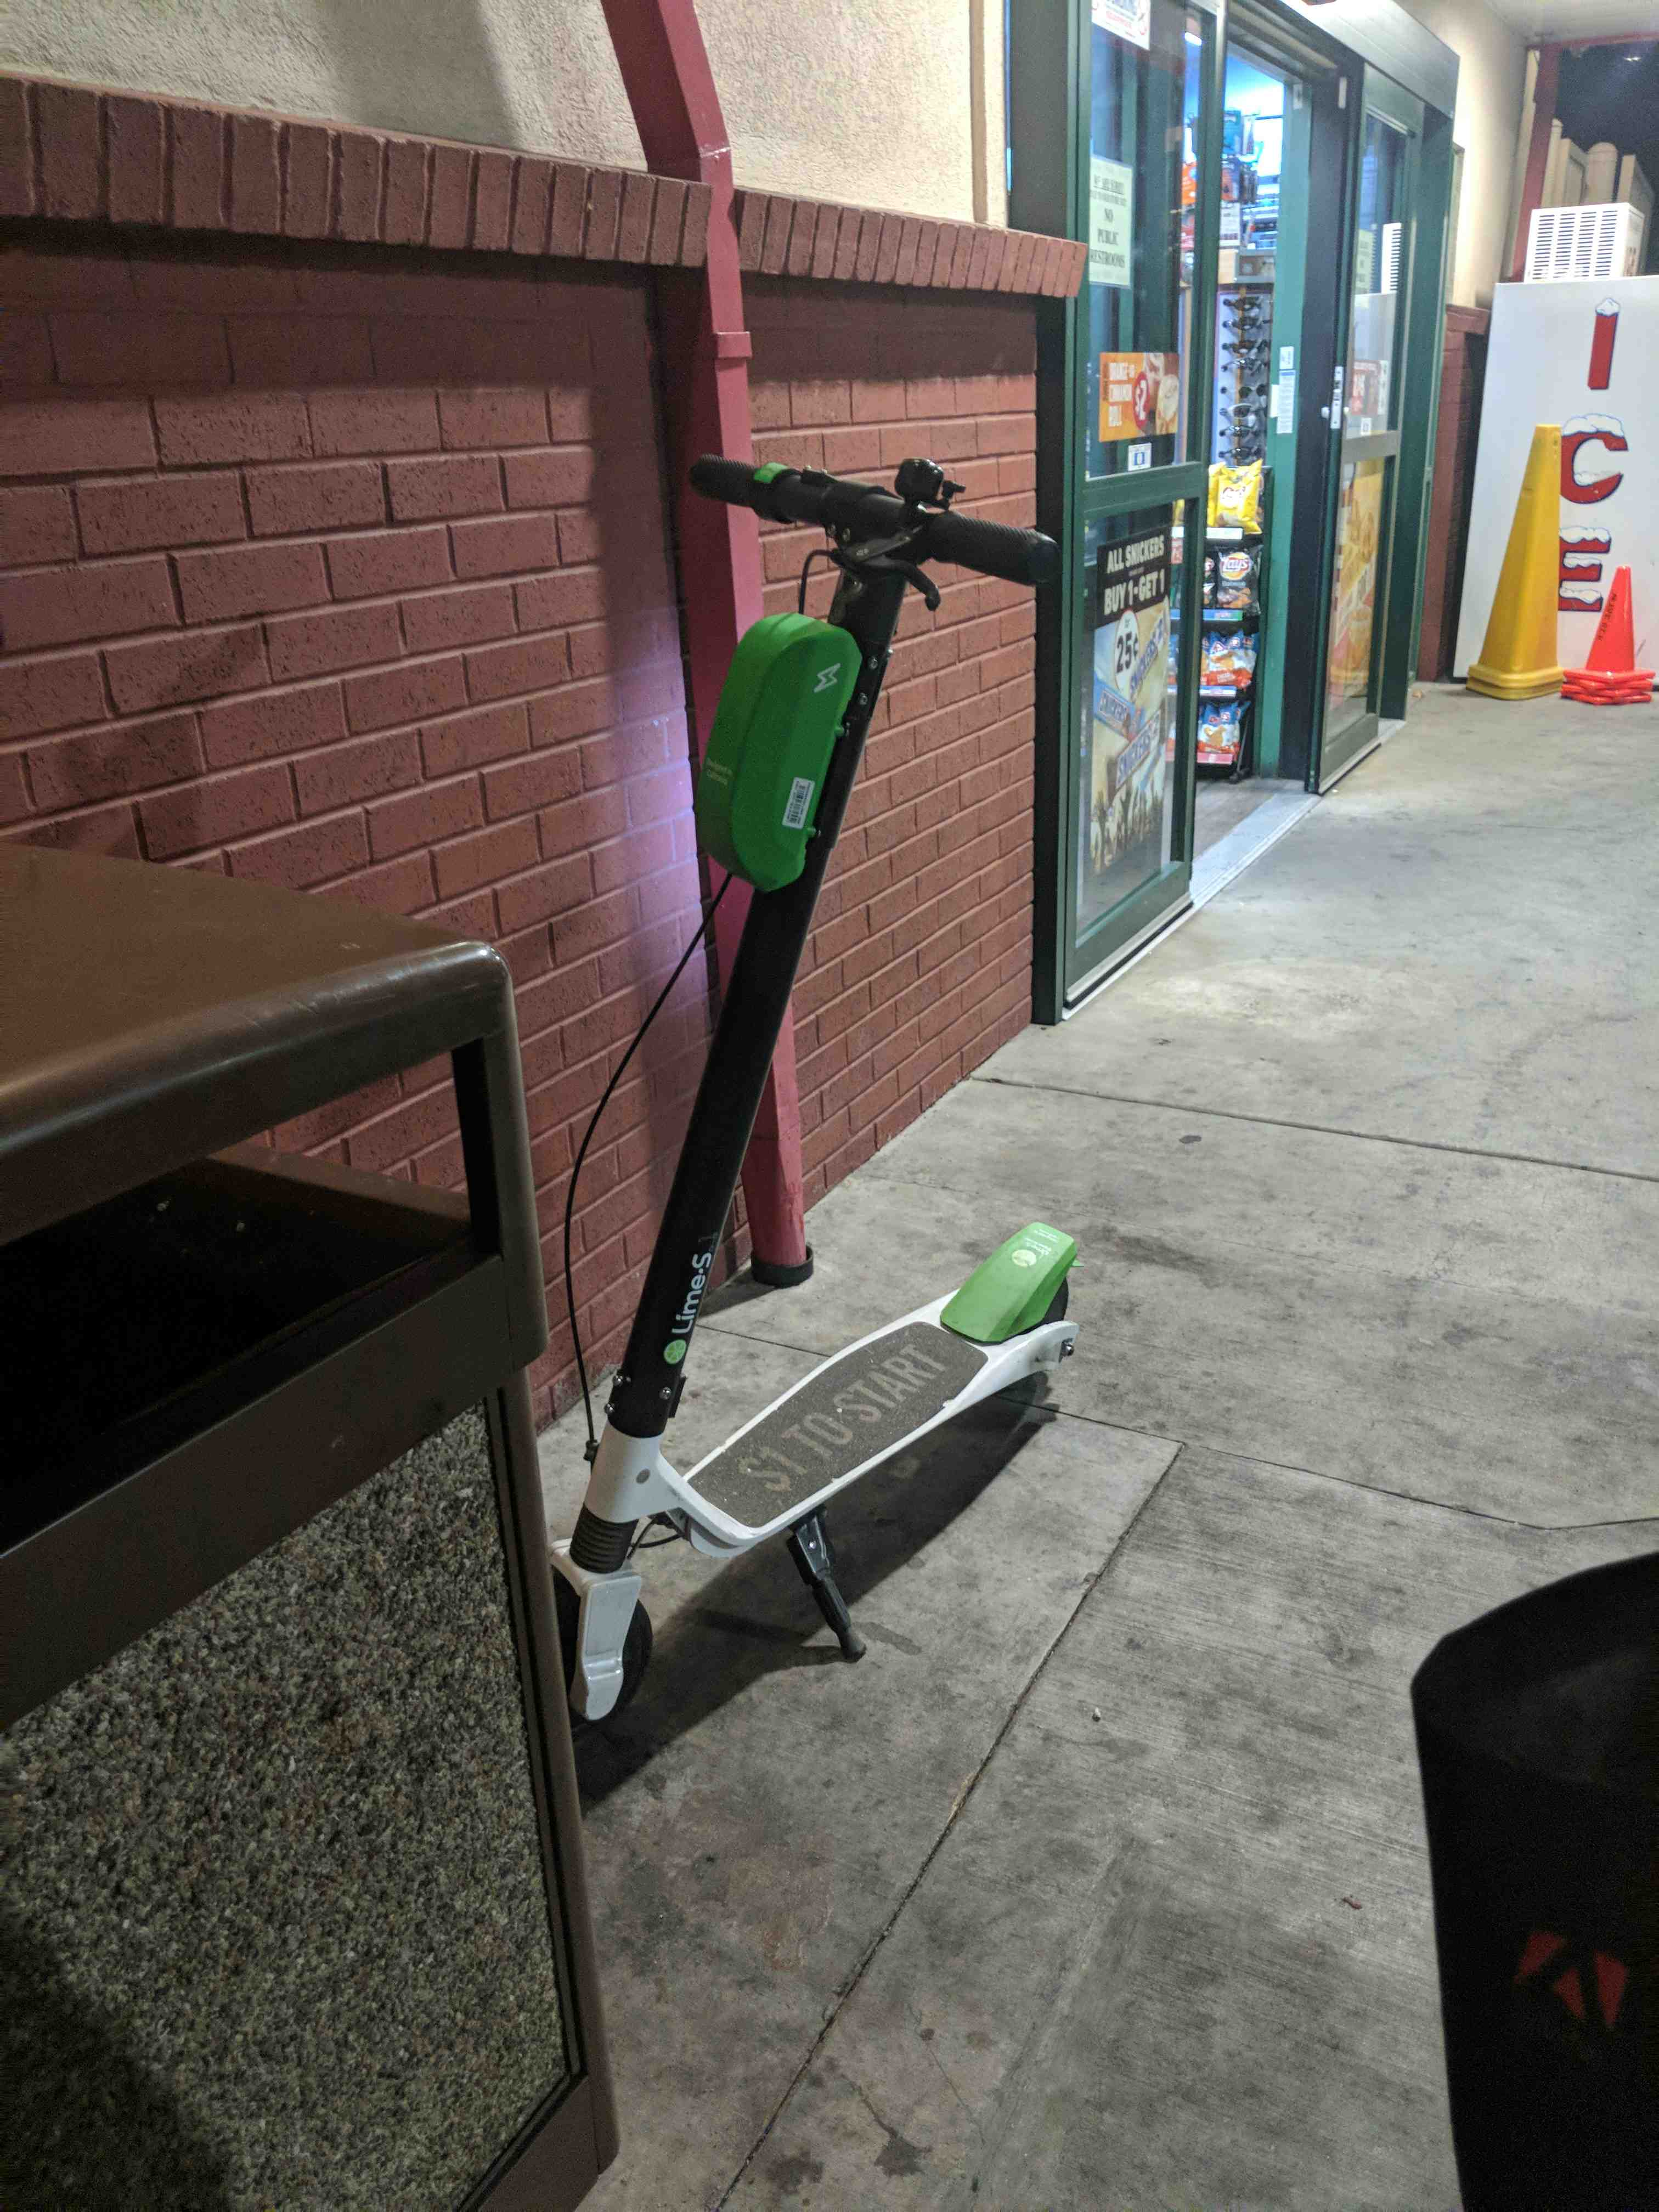scooter: (528, 432, 1131, 1811)
